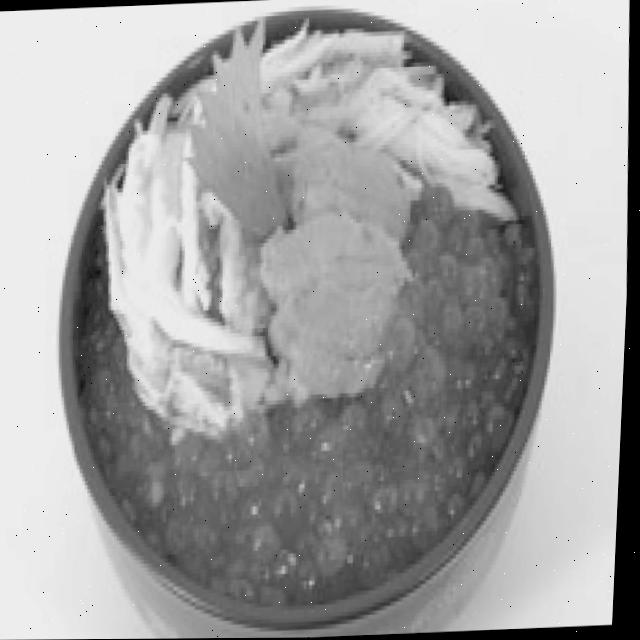刺身生食: (102, 0, 640, 639)
